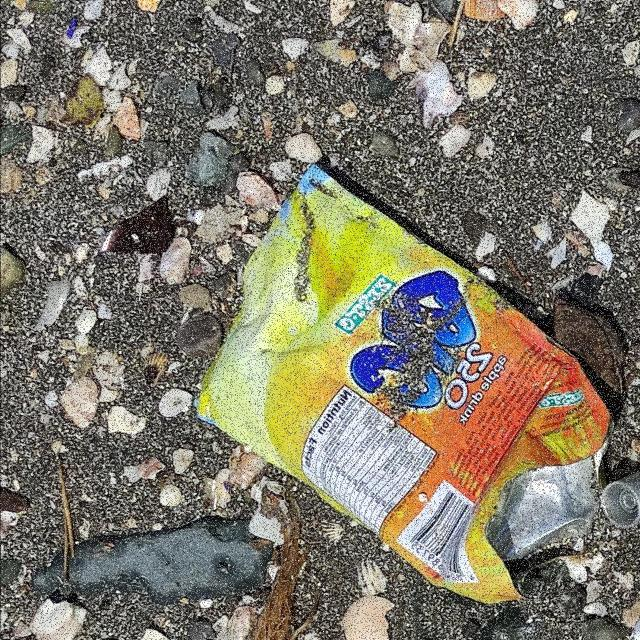plastic_waste: (193, 162, 616, 607), (601, 473, 640, 530)
